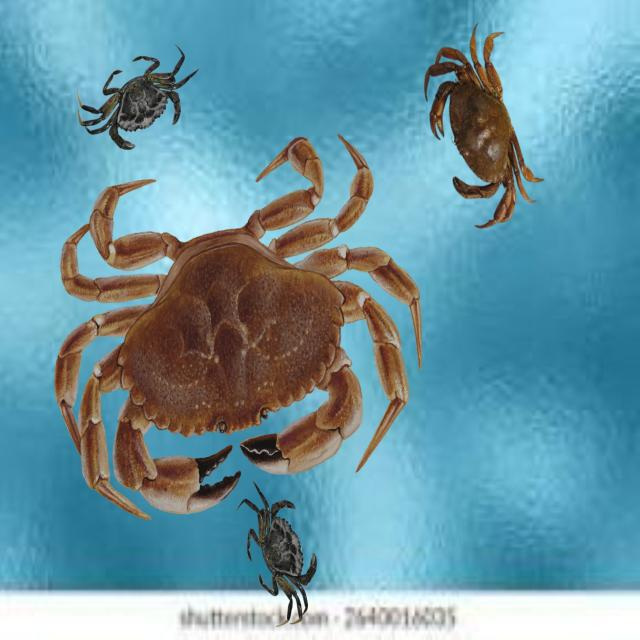European_Green_Crab: (69, 30, 212, 170), (224, 463, 334, 636)
